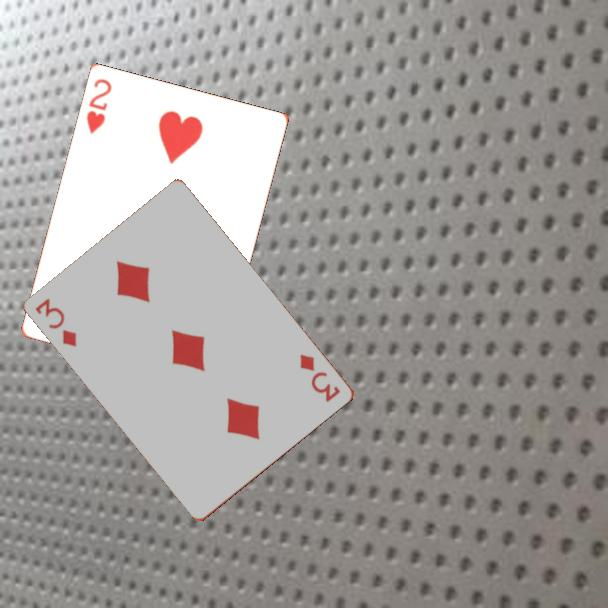d03: (32, 295, 80, 350), (297, 350, 344, 405)
h02: (83, 75, 115, 138)
